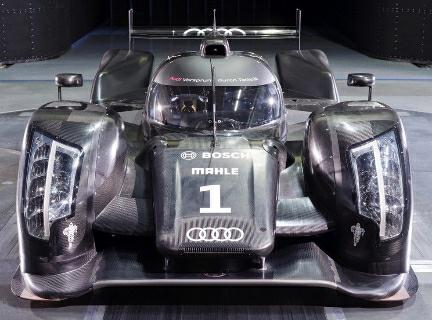奥迪-R18: (12, 26, 419, 310)
